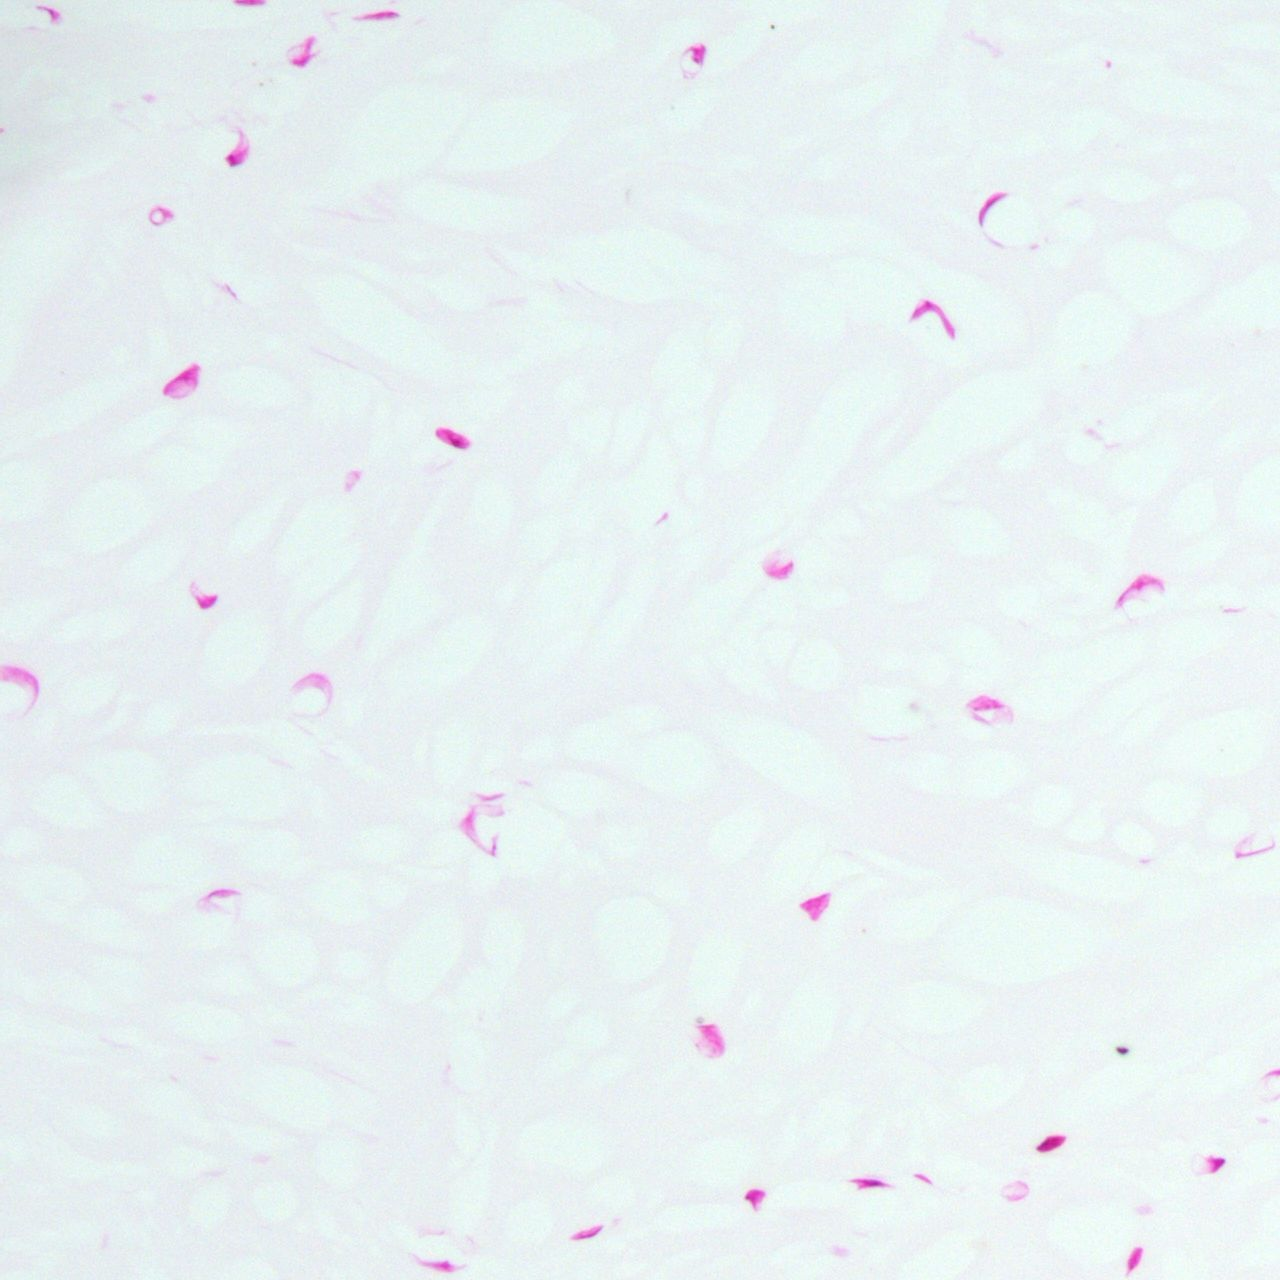dust: (1116, 1046, 1128, 1053)
nucleus-FG: (433, 422, 474, 454), (1035, 1128, 1068, 1157), (222, 142, 253, 171), (850, 1175, 891, 1190), (361, 11, 399, 19)
